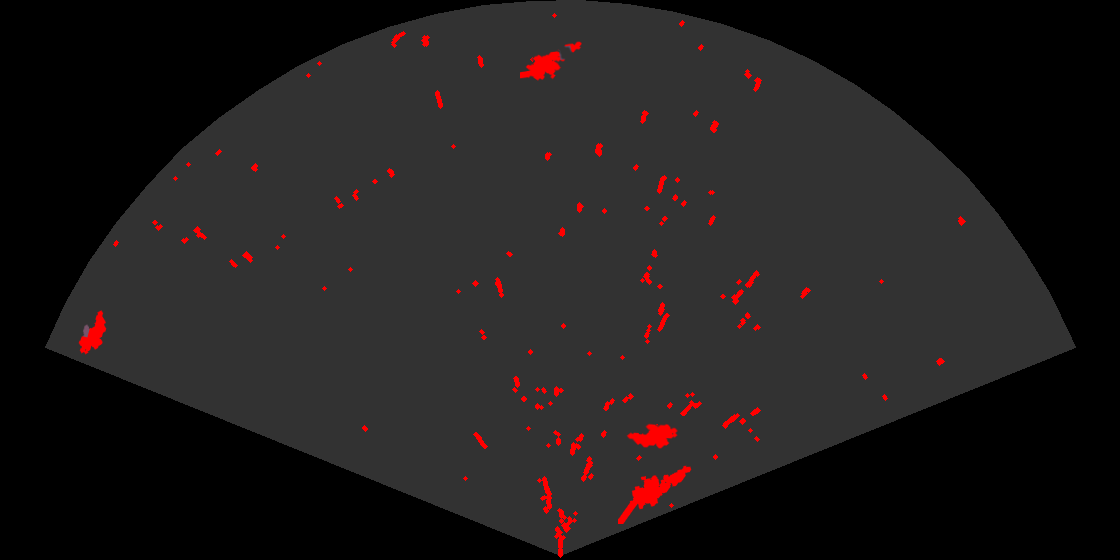AUV: (625, 422, 680, 450), (77, 309, 108, 356)
frogman: (618, 464, 693, 524), (520, 40, 583, 82)
